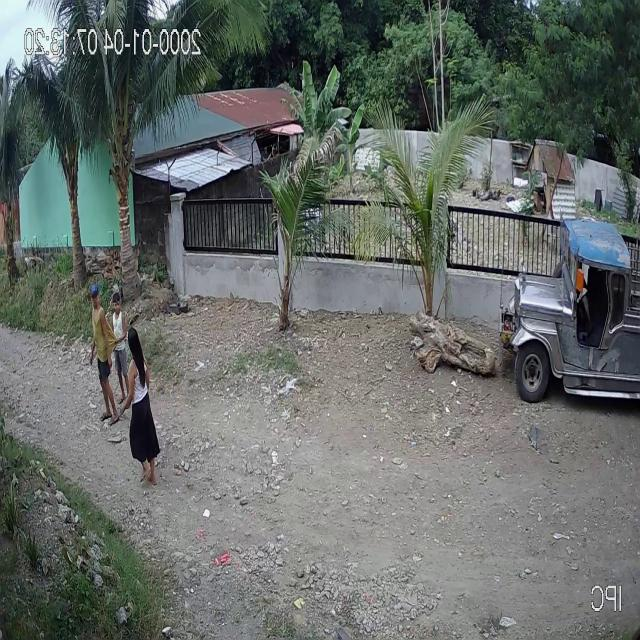standing: (87, 281, 119, 430), (110, 289, 131, 409)
walking: (120, 326, 166, 487)
